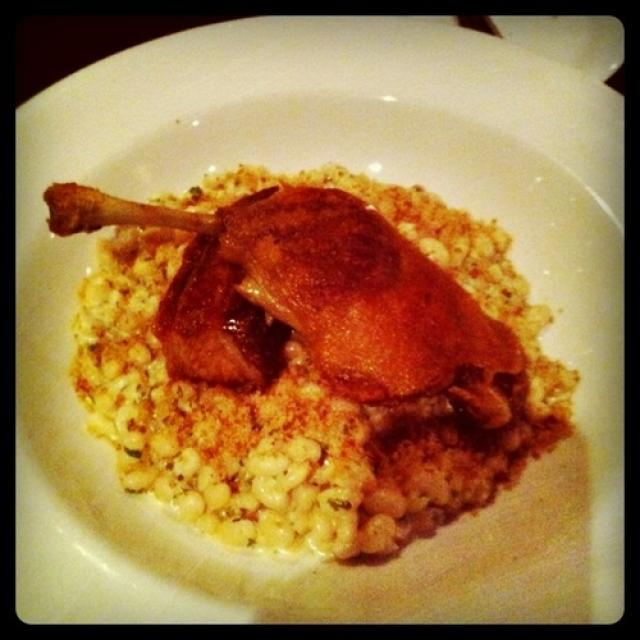牛肉菜式: (36, 42, 584, 604)
